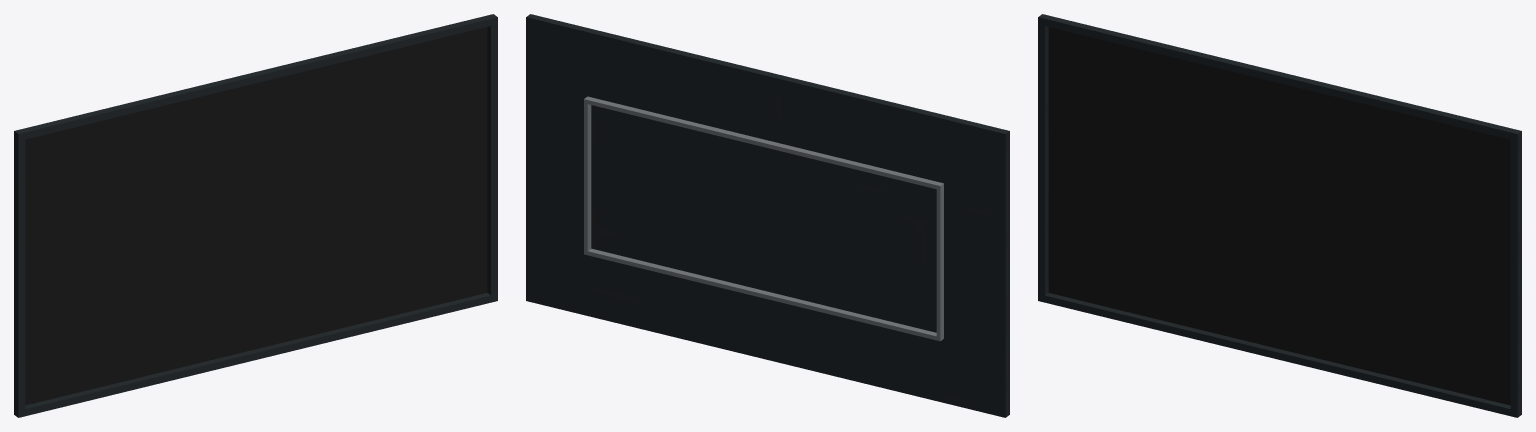
Rendered from Smart_TV.fbx.
The picture shows the model from 3 angles, left to right: view 1: azimuth 30°, elevation 25°; view 2: azimuth 150°, elevation 25°; view 3: azimuth 330°, elevation 25°; orthographic projection.
Parts seen in each view (by area): view 1: Smart_TV; view 2: Smart_TV; view 3: Smart_TV.
Part boxes in pixels (x1,y1,x2,y2): Smart_TV: (14, 14, 497, 417); Smart_TV: (526, 14, 1009, 417); Smart_TV: (1038, 14, 1521, 417).
Bounding box in the file's own units: 1.72 × 0.9709 × 0.0497.
